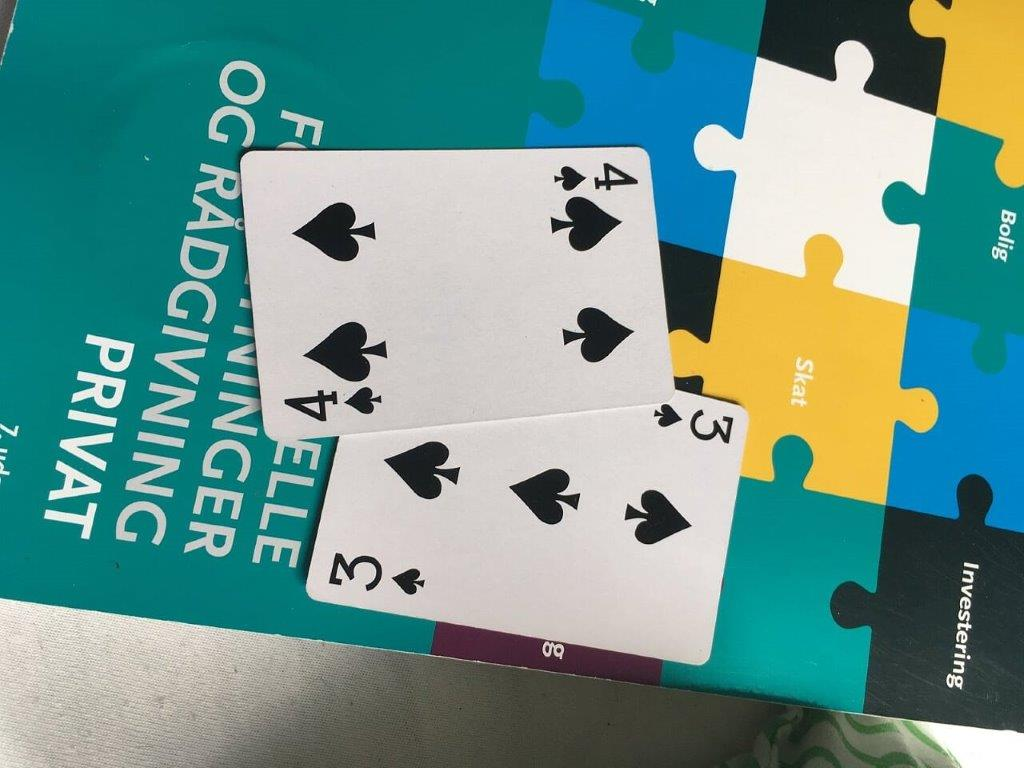3S: (304, 442, 747, 668)
4S: (238, 144, 677, 443)
